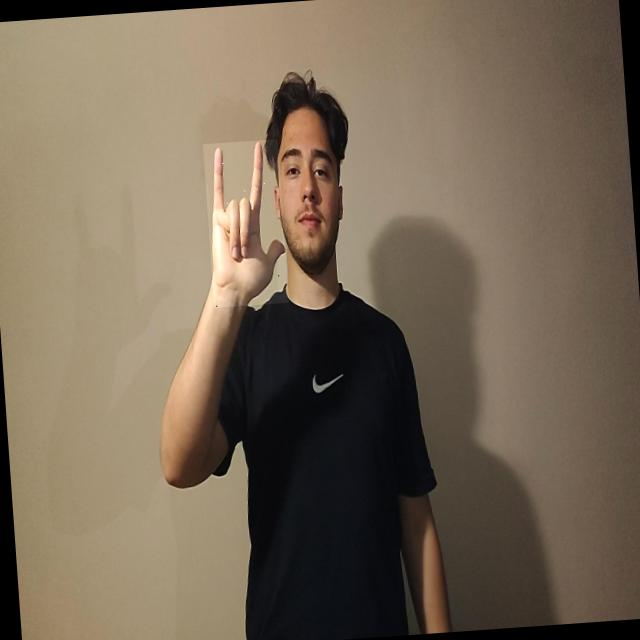iloveyou: (202, 138, 288, 308)
